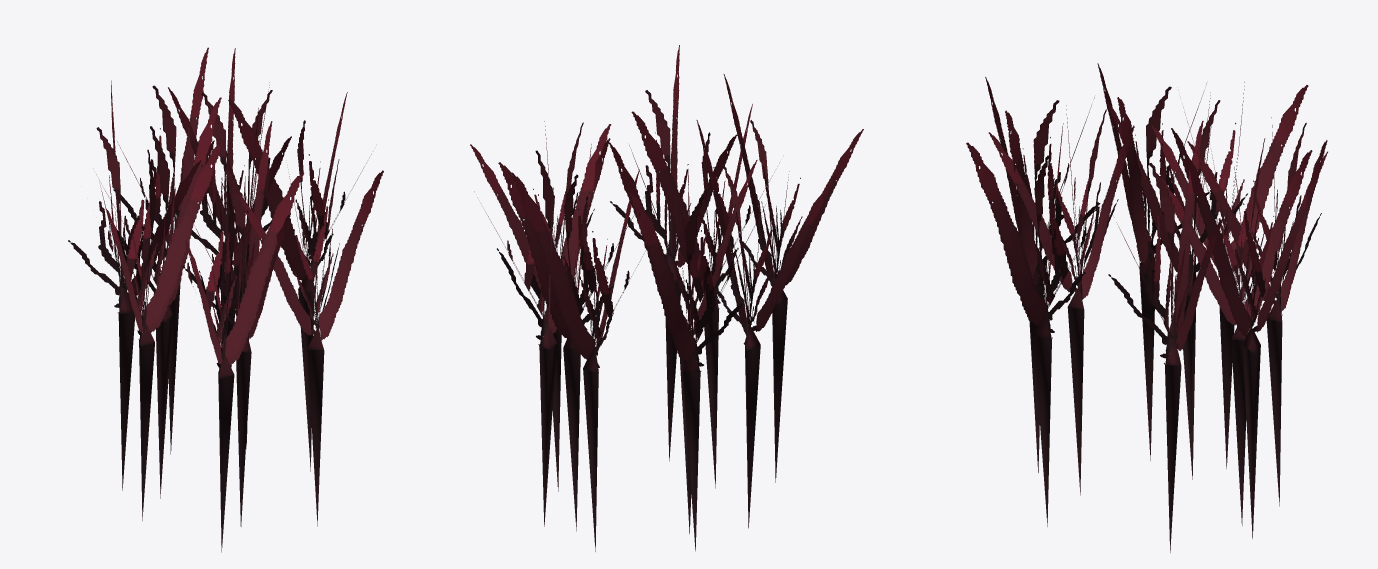
The model's file is Rg_preview_3DS_simplified.glb.
The picture shows the model from 3 angles, left to right: view 1: azimuth 30°, elevation 25°; view 2: azimuth 150°, elevation 25°; view 3: azimuth 270°, elevation 25°; orthographic projection. The views are drawn at different scales.
Visible parts, largest first — view 1: Marine Park Empire model; view 2: Marine Park Empire model; view 3: Marine Park Empire model.
Part boxes in pixels (bbox=[...]): Marine Park Empire model: bbox=[68, 47, 383, 552]; Marine Park Empire model: bbox=[470, 45, 863, 551]; Marine Park Empire model: bbox=[966, 63, 1327, 552].
Bounding box in the file's own units: 32.42 × 35.59 × 33.95.
Materials: 1 (1 with a texture image).
